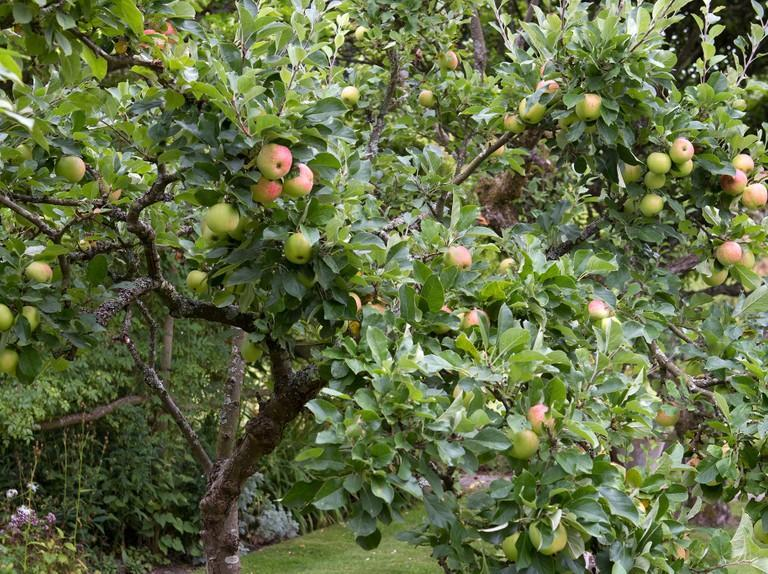apple: (257, 143, 293, 180)
